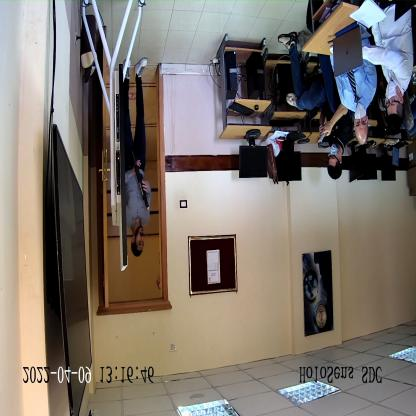handgun: (129, 149, 150, 207)
